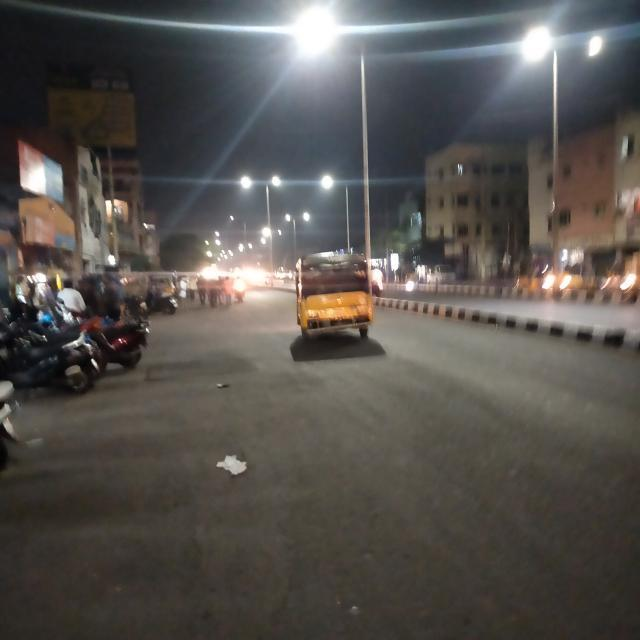auto_back: (286, 244, 386, 358)
